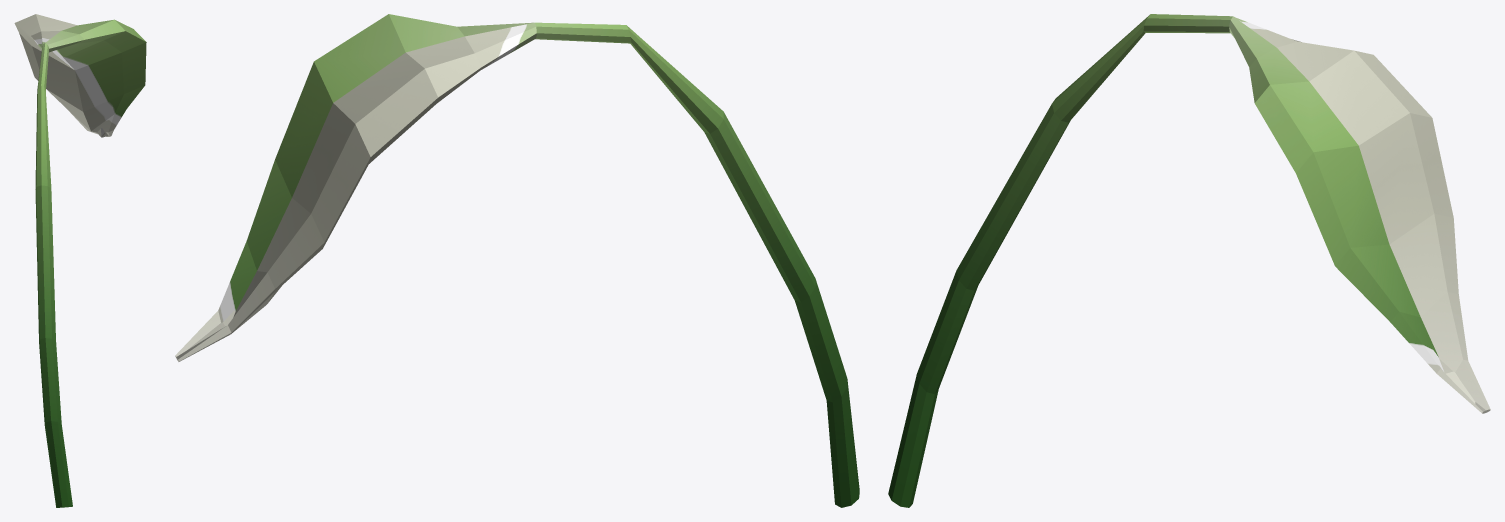
Rendered from variegatedMonstera1.fbx.
3 renders of one model, left to right at view 1: azimuth 30°, elevation 25°; view 2: azimuth 150°, elevation 25°; view 3: azimuth 270°, elevation 25°, orthographic. The views are drawn at different scales.
Parts seen in each view (by area): view 1: monsteras.002; view 2: monsteras.002; view 3: monsteras.002.
Boxes of the visible parts, bbox=[...] form: monsteras.002: bbox=[14, 14, 146, 507]; monsteras.002: bbox=[175, 14, 859, 507]; monsteras.002: bbox=[888, 14, 1490, 507].
Bounding box in the file's own units: 964 × 1359 × 1338.
